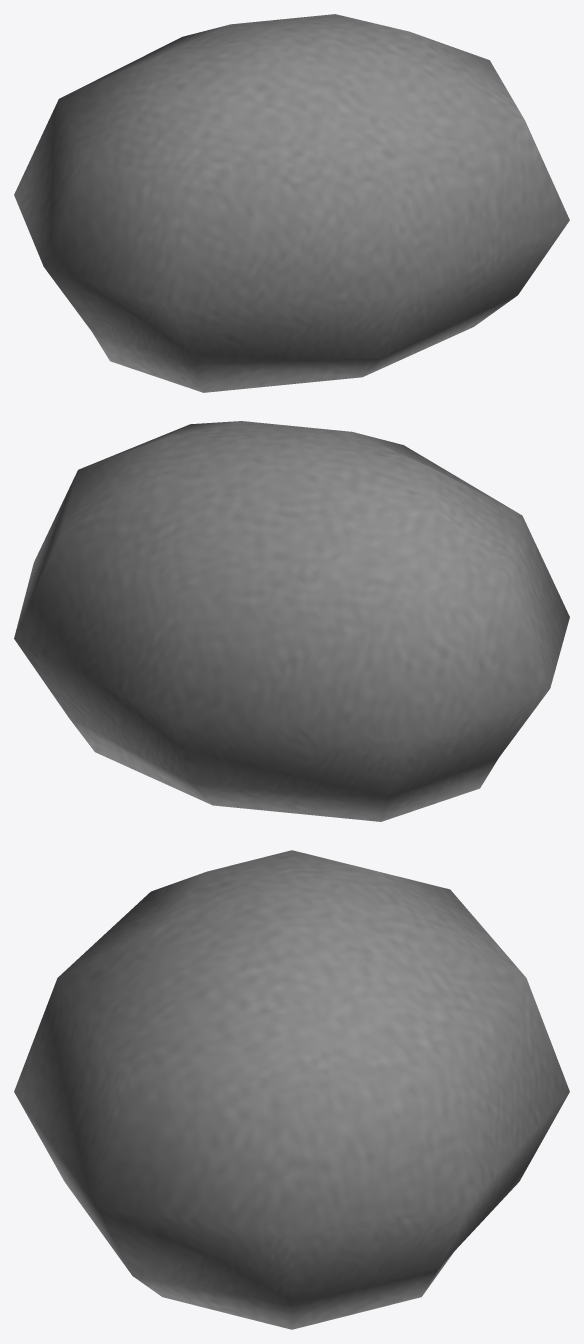
The model's file is Pietre_2.fbx.
The picture shows the model from 3 angles, top to bottom: view 1: azimuth 30°, elevation 25°; view 2: azimuth 150°, elevation 25°; view 3: azimuth 270°, elevation 25°; orthographic projection. The views are drawn at different scales.
Visible parts, largest first — view 1: pCube2; view 2: pCube2; view 3: pCube2.
Boxes of the visible parts, x1,y1,x2,y2 form: pCube2: (14, 14, 569, 392); pCube2: (14, 421, 569, 821); pCube2: (14, 850, 569, 1329).
Size of the model in its own units: 1.21 by 0.6552 by 1.03.
Materials: 1 (1 with a texture image).
